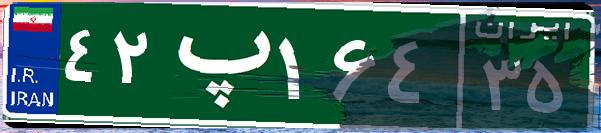1: (273, 28, 330, 110)
2: (110, 28, 158, 105)
3: (475, 38, 525, 113)
4: (385, 28, 445, 110), (57, 26, 110, 107)
5: (525, 38, 570, 115)
6: (330, 28, 385, 110)
پ: (158, 15, 273, 115)
